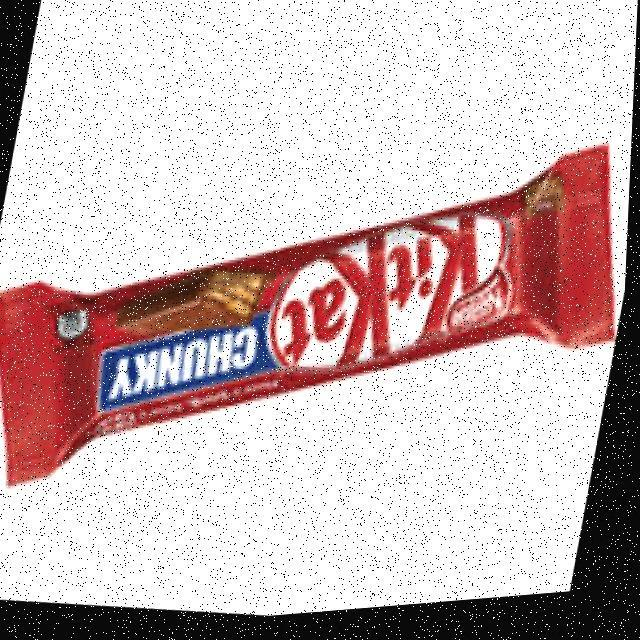kitkat_chocolate: (0, 138, 618, 491)
